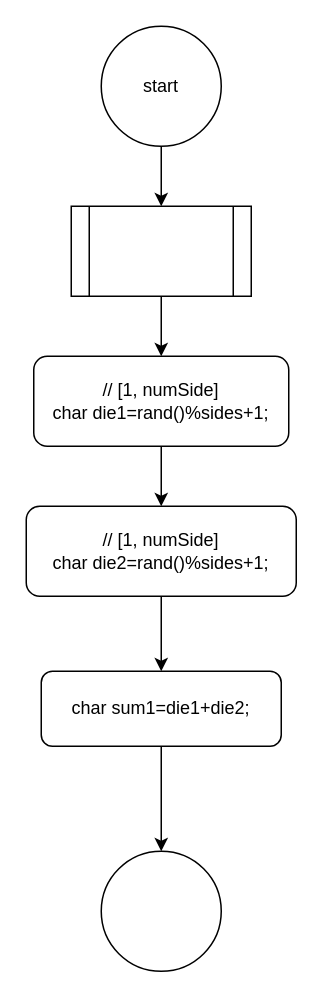
Some shapes in this 323 by 998 pixel diagram are drawn without their labels. Each missing label, with the box of its shape:
return sum1: (100, 850, 221, 971)
rollDie(int sides): (70, 205, 251, 296)
